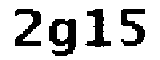1: (85, 7, 115, 53)
2: (13, 6, 44, 49)
5: (119, 5, 152, 49)
g: (48, 16, 79, 60)
